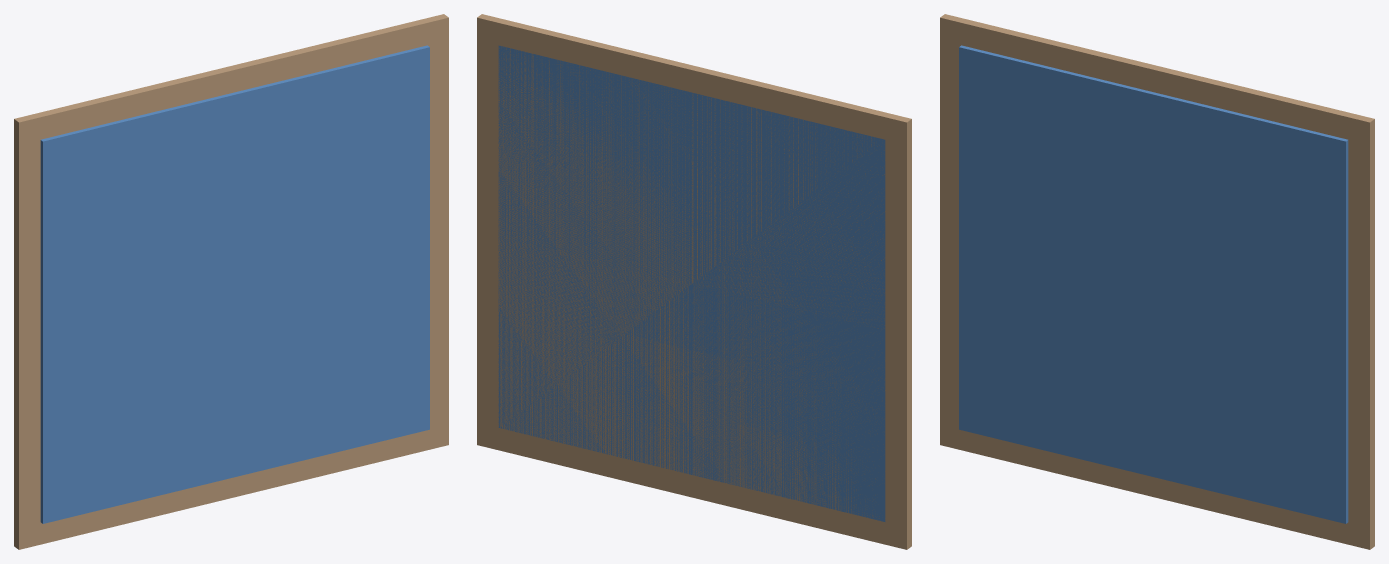
The model's file is Crest_Panel.fbx.
3 renders of one model, left to right at view 1: azimuth 30°, elevation 25°; view 2: azimuth 150°, elevation 25°; view 3: azimuth 330°, elevation 25°, orthographic.
Parts seen in each view (by area): view 1: Crest_Panel; view 2: Crest_Panel; view 3: Crest_Panel.
Part boxes in pixels (left/top/right/bottom): Crest_Panel: left=14, top=14, right=448, bottom=549; Crest_Panel: left=477, top=14, right=911, bottom=549; Crest_Panel: left=940, top=14, right=1374, bottom=549.
Bounding box in the file's own units: 2 × 1.9 × 0.06.
